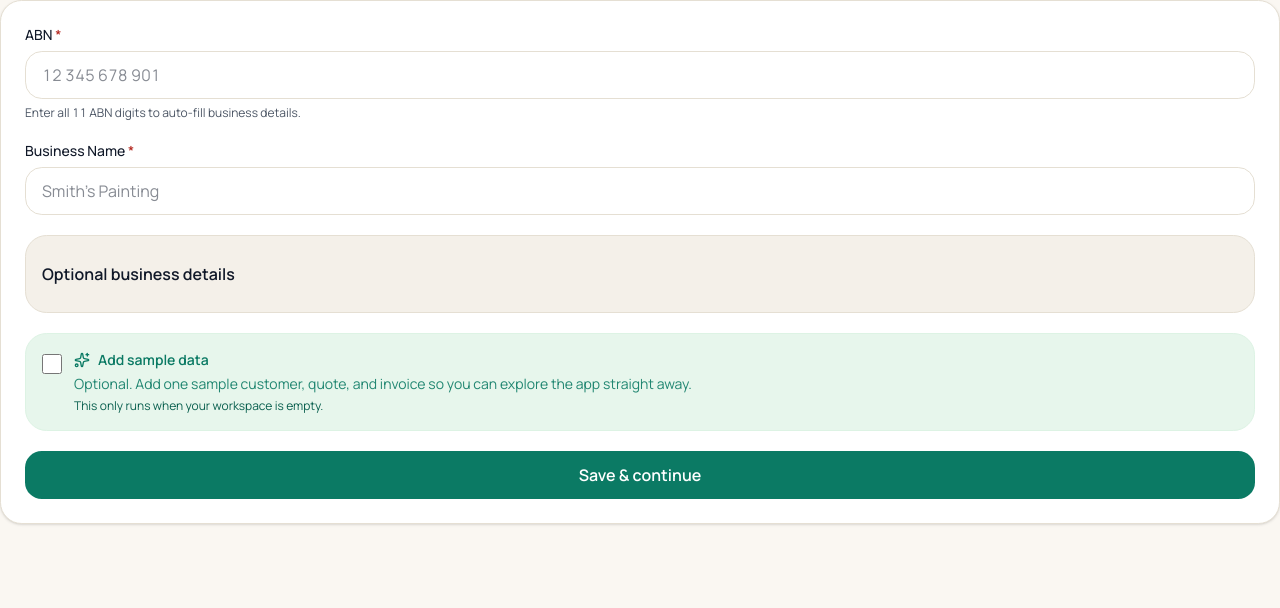
OnboardingForm › shows server failures through the canonical error alert
Type "Alex Painting" into the field labelled "Business Name *". click: (640, 191)
box: [25,167,1255,215]
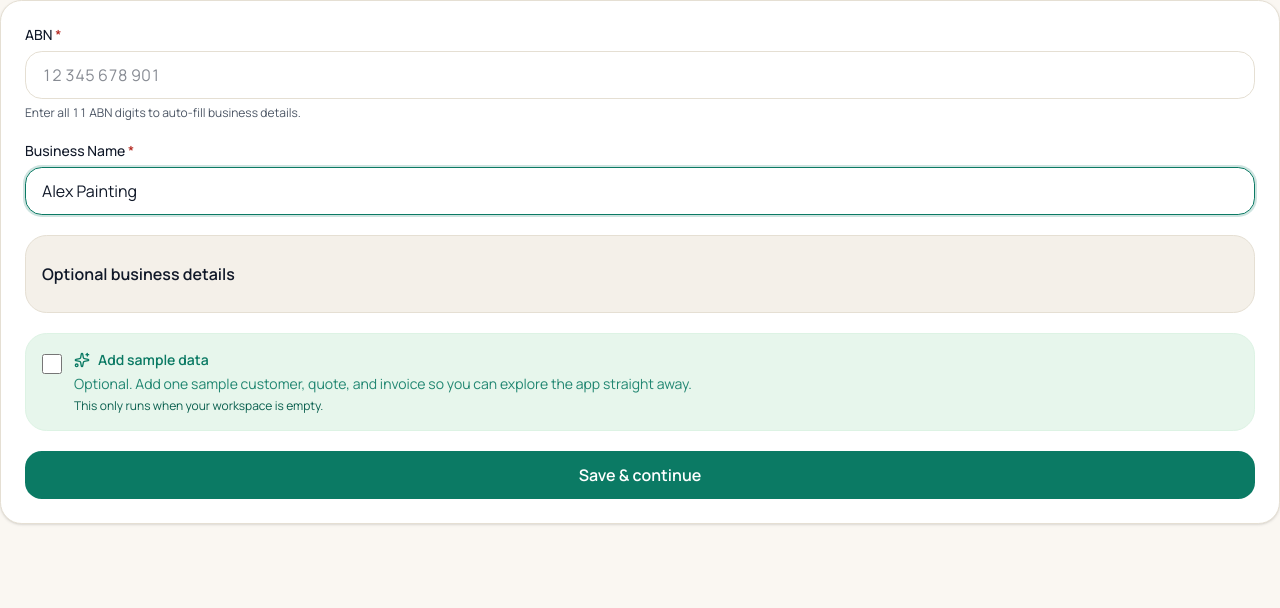
Type "12345678901" into the field labelled "ABN *". click: (640, 75)
box: [25,51,1255,99]
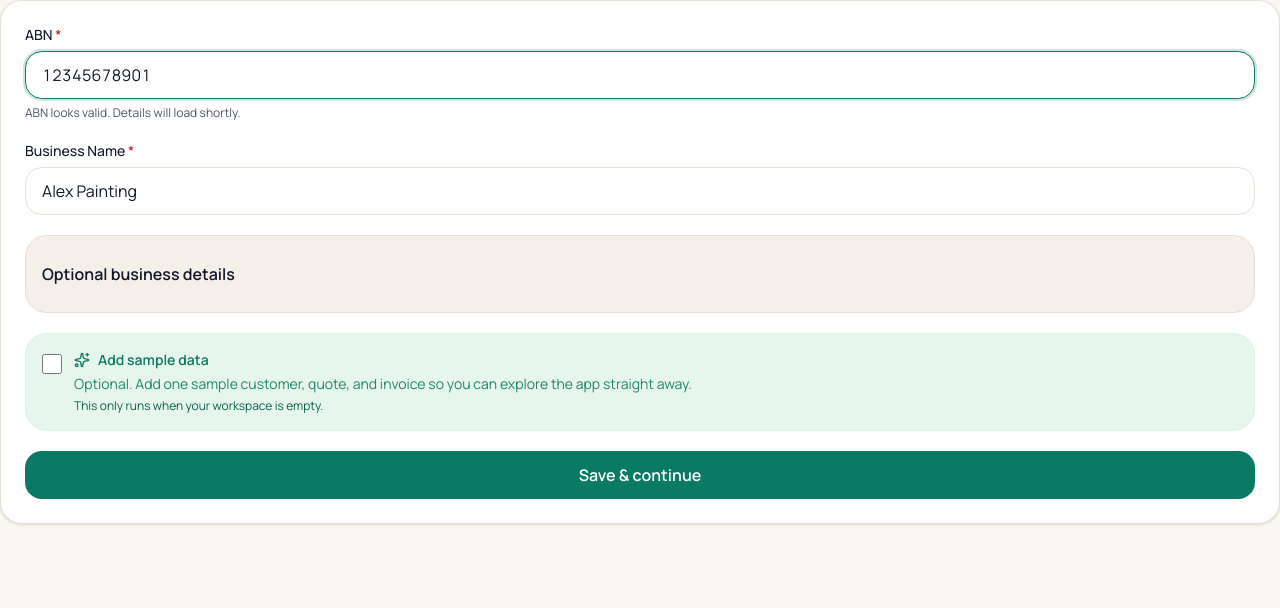
Click the button "Save & continue". click: (640, 475)
box: [25,451,1255,499]
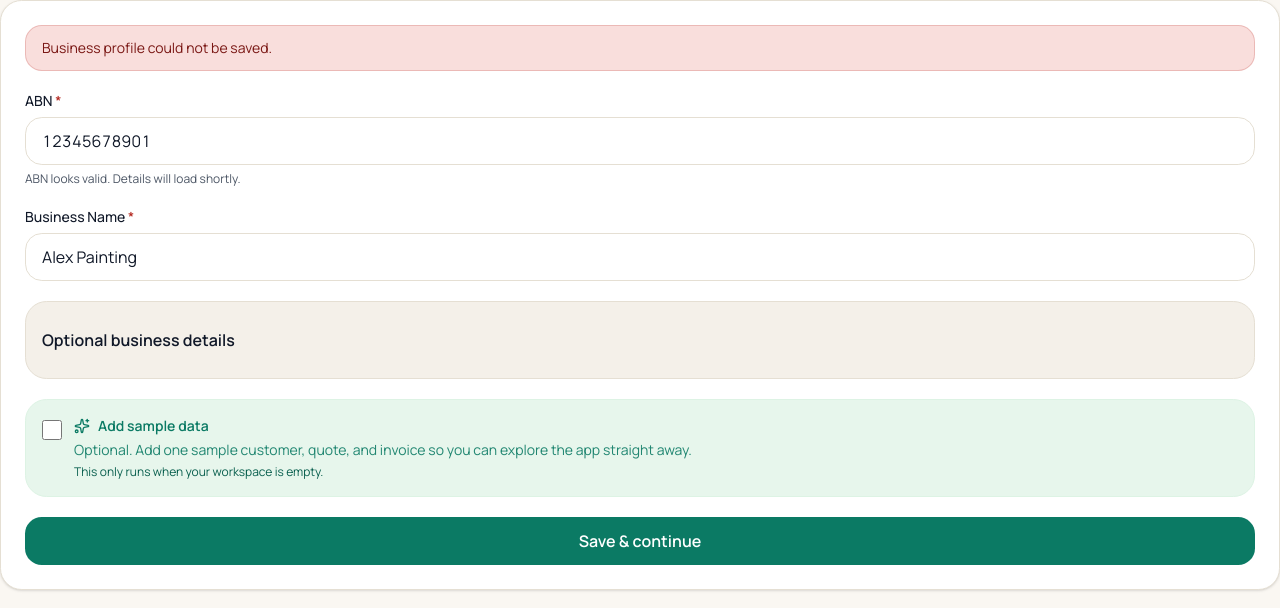
Check: the message reads "Business profile could not be saved.", box [42,38,272,57]
